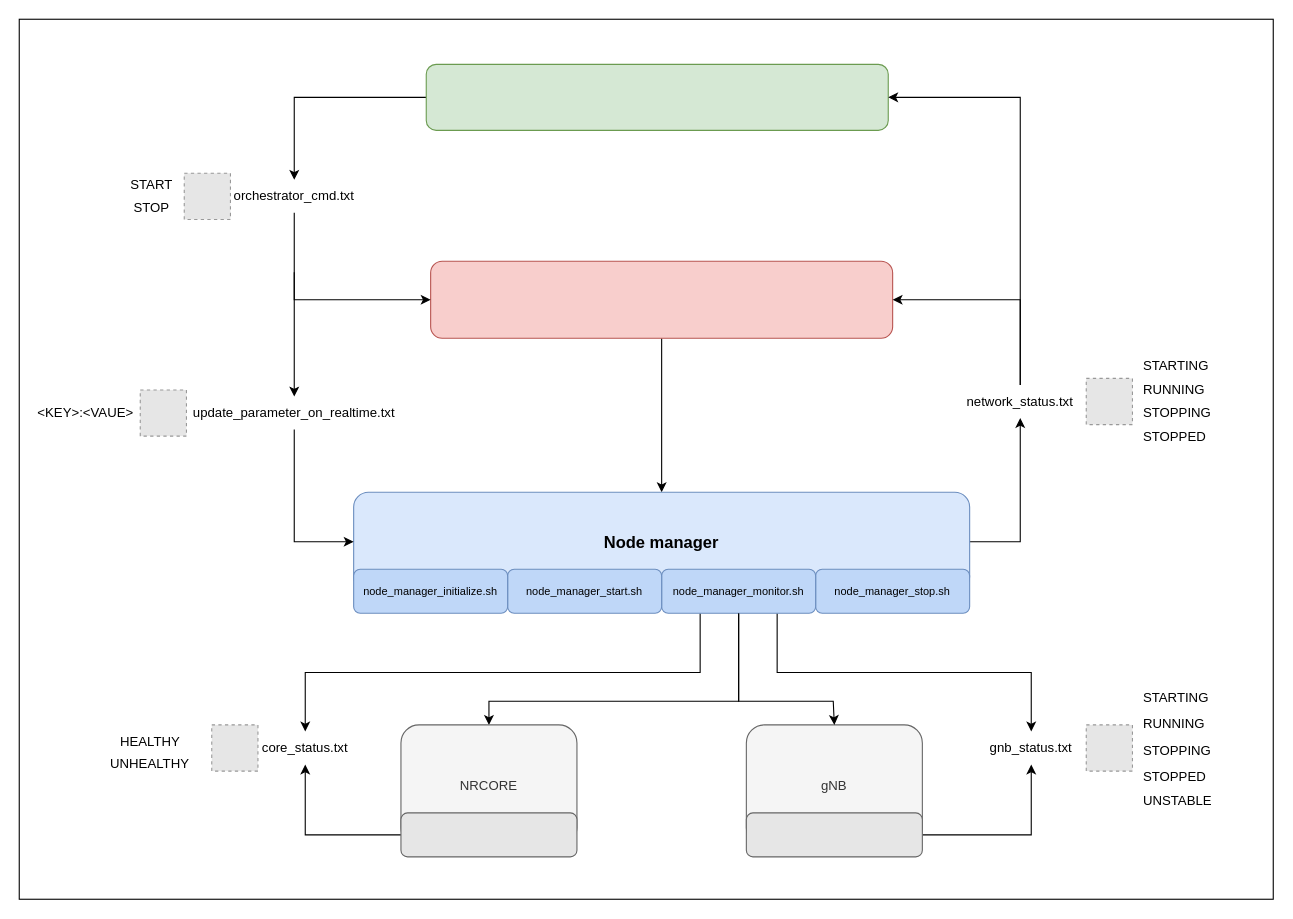
This 1293x919 diagram has some shape labels left out. Grey dashed boxes stand in for pictures. The centre of each missing label's shape, as x and y in pixels:
5G SHARP ORCHESTRATOR: (x=661, y=299)
COMMAND LINE INTERFACE: (x=656, y=96)
core_watchdog.sh: (x=488, y=834)
gnb_watchdog.sh: (x=833, y=834)
